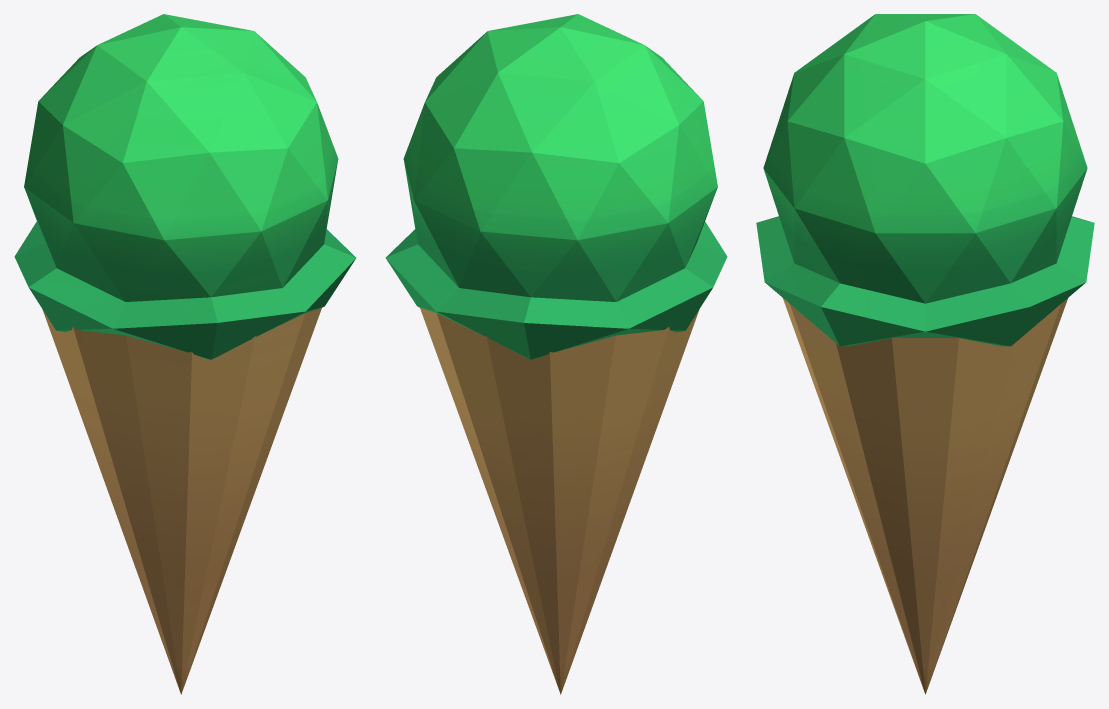
File: quaternius-junk-food-icecream-3.glb
3 renders of one model, left to right at view 1: azimuth 30°, elevation 25°; view 2: azimuth 150°, elevation 25°; view 3: azimuth 270°, elevation 25°, orthographic.
Parts seen in each view (by area): view 1: Icecream; view 2: Icecream; view 3: Icecream.
Part boxes in pixels (<box>): Icecream: <box>14,14,356,694</box>; Icecream: <box>385,14,727,694</box>; Icecream: <box>756,14,1094,694</box>.
Bounding box in the file's own units: 0.854 × 1.83 × 0.8328.
Materials: 1 (1 with a texture image).
